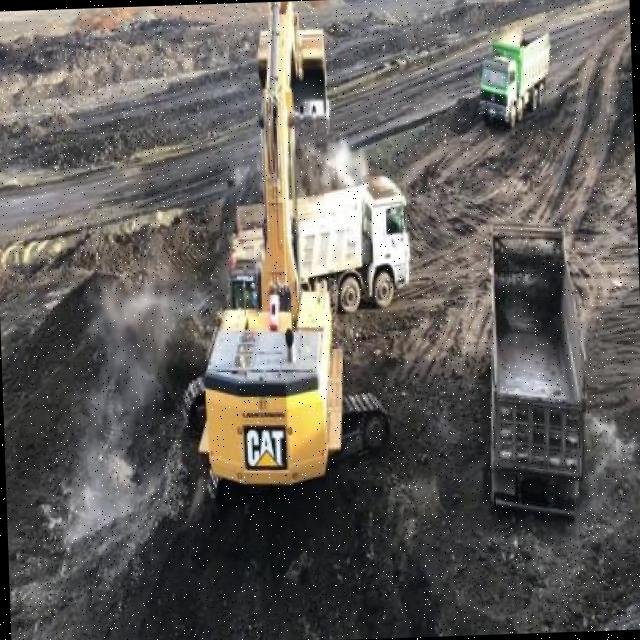Dump Truck: (472, 210, 594, 529), (224, 165, 414, 311), (474, 18, 556, 130)
Excavator: (167, 0, 396, 516)
